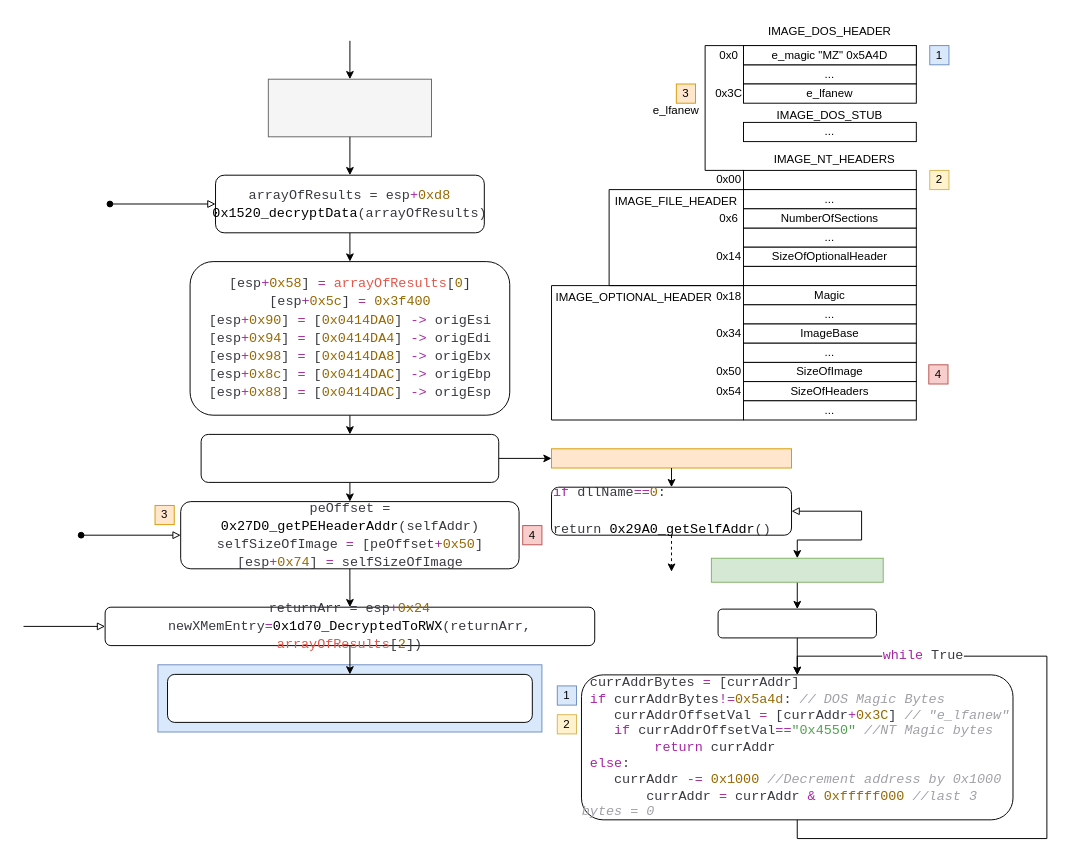
Image size: 1071x863. Some labels were removed from this diagram. The centre of each missing label's shape, as x and y in pixels:
0x28f0_callfindDll (dllName): (x=671, y=458)
0x29A0_getSelfAddr: (x=796, y=569)
0x3520_startUnpacking: (x=349, y=107)
Characteristics: (x=829, y=275)
currAddr = 0x4029A0: (x=796, y=623)
newXMemEntry (returnArr) // Enter decrypted entry: (x=349, y=697)
selfAddr = 0x28f0_callfindDll ( 0 ) [esp+ 0x70 ] = selfAddr: (x=349, y=457)
Signature "PE" 0x4550: (x=829, y=179)
